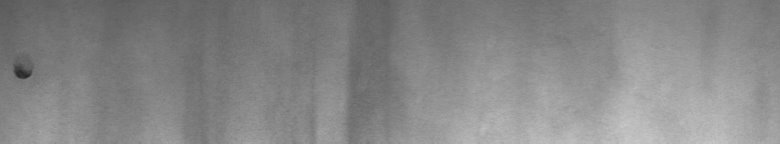fi: (8, 60, 36, 88)
